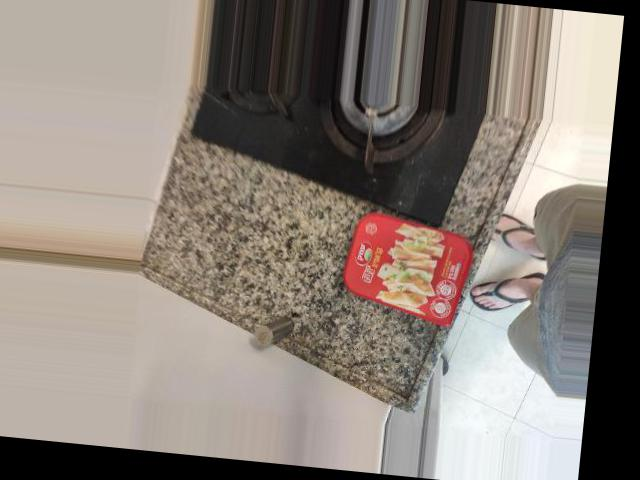cheese: (208, 164, 376, 306)
